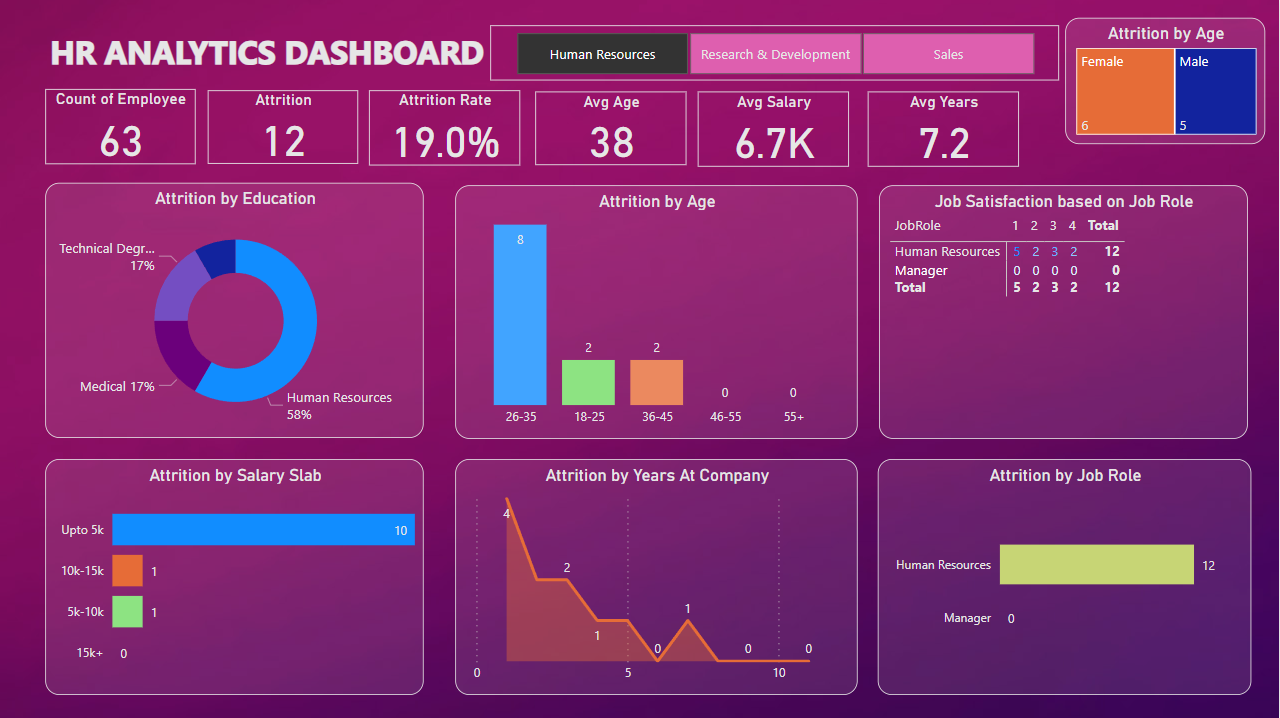

Layout of this report page (visuals, bound fields, positions):
{"tool":"powerbi","page":{"name":"Page 1","canvas":[1280,720],"ordinal":0},"visuals":[{"type":"card","title":"Count of Employee","fields":{"Values":["CountNonNull(HR_Analytics.EmpID)"]},"box":[46.2,90,150,75],"z":0},{"type":"card","title":"Attrition Rate","fields":{"Values":["HR_Analytics.AttritionRate"]},"box":[370,91.2,151.2,75],"z":1000},{"type":"card","title":"Avg Age","fields":{"Values":["Avg(HR_Analytics.Age)"]},"box":[536.2,92.5,151.2,73.8],"z":2000},{"type":"card","title":"Attrition ","fields":{"Values":["Sum(HR_Analytics.AttritionCount)"]},"box":[208.8,91.2,150,73.8],"z":3000},{"type":"card","title":"Avg Salary","fields":{"Values":["Avg(HR_Analytics.MonthlyIncome)"]},"box":[698.8,92.5,151.2,75],"z":4000},{"type":"card","title":"Avg Years","fields":{"Values":["Avg(HR_Analytics.YearsAtCompany)"]},"box":[868.8,92.5,151.2,75],"z":5000},{"type":"donutChart","title":"Attrition by Education","fields":{"Category":["HR_Analytics.EducationField"],"Y":["Sum(HR_Analytics.AttritionCount)"]},"box":[46.2,183.8,378.8,255],"z":6000},{"type":"columnChart","title":"Attrition by Age","fields":{"Category":["HR_Analytics.AgeGroup"],"Y":["Sum(HR_Analytics.AttritionCount)"]},"box":[456.2,186.2,402.5,253.8],"z":7000},{"type":"pivotTable","title":"Job Satisfaction based on Job Role","fields":{"Rows":["HR_Analytics.JobRole"],"Columns":["HR_Analytics.JobSatisfaction"],"Values":["Sum(HR_Analytics.AttritionCount)"]},"box":[880,186.2,368.8,253.8],"z":8000},{"type":"barChart","title":"Attrition by Salary Slab","fields":{"Category":["HR_Analytics.SalarySlab"],"Y":["Sum(HR_Analytics.AttritionCount)"]},"box":[46.2,460,378.8,236.2],"z":9000},{"type":"barChart","title":"Attrition by Job Role","fields":{"Category":["HR_Analytics.JobRole"],"Y":["Sum(HR_Analytics.AttritionCount)"]},"box":[878.8,460,373.8,236.2],"z":10000},{"type":"areaChart","title":"Attrition by Years At Company","fields":{"Category":["HR_Analytics.YearsAtCompany"],"Y":["Sum(HR_Analytics.AttritionCount)"]},"box":[456.2,460,402.5,236.2],"z":11000},{"type":"treemap","title":"Attrition by Age","fields":{"Group":["HR_Analytics.Gender"],"Values":["Sum(HR_Analytics.AttritionCount)"]},"box":[1066.2,18.8,200,126.2],"z":12000},{"type":"slicer","fields":{"Values":["HR_Analytics.Department"]},"box":[491.2,26.2,568.8,55],"z":13000},{"type":"textbox","box":[46.2,26.2,463.8,55],"z":13001}]}

Visuals, with their boxes in screenshot pixels (x1, y1, x2, y2), scaled from the page's 1280x720 canvas onto the 1280x718 screenshot:
"Count of Employee" card: <bbox>46, 90, 196, 165</bbox>
"Attrition Rate" card: <bbox>370, 91, 521, 166</bbox>
"Avg Age" card: <bbox>536, 92, 687, 166</bbox>
"Attrition " card: <bbox>209, 91, 359, 165</bbox>
"Avg Salary" card: <bbox>699, 92, 850, 167</bbox>
"Avg Years" card: <bbox>869, 92, 1020, 167</bbox>
"Attrition by Education" donutChart: <bbox>46, 183, 425, 438</bbox>
"Attrition by Age" columnChart: <bbox>456, 186, 859, 439</bbox>
"Job Satisfaction based on Job Role" pivotTable: <bbox>880, 186, 1249, 439</bbox>
"Attrition by Salary Slab" barChart: <bbox>46, 459, 425, 694</bbox>
"Attrition by Job Role" barChart: <bbox>879, 459, 1253, 694</bbox>
"Attrition by Years At Company" areaChart: <bbox>456, 459, 859, 694</bbox>
"Attrition by Age" treemap: <bbox>1066, 19, 1266, 145</bbox>
slicer - HR_Analytics.Department: <bbox>491, 26, 1060, 81</bbox>
textbox: <bbox>46, 26, 510, 81</bbox>
